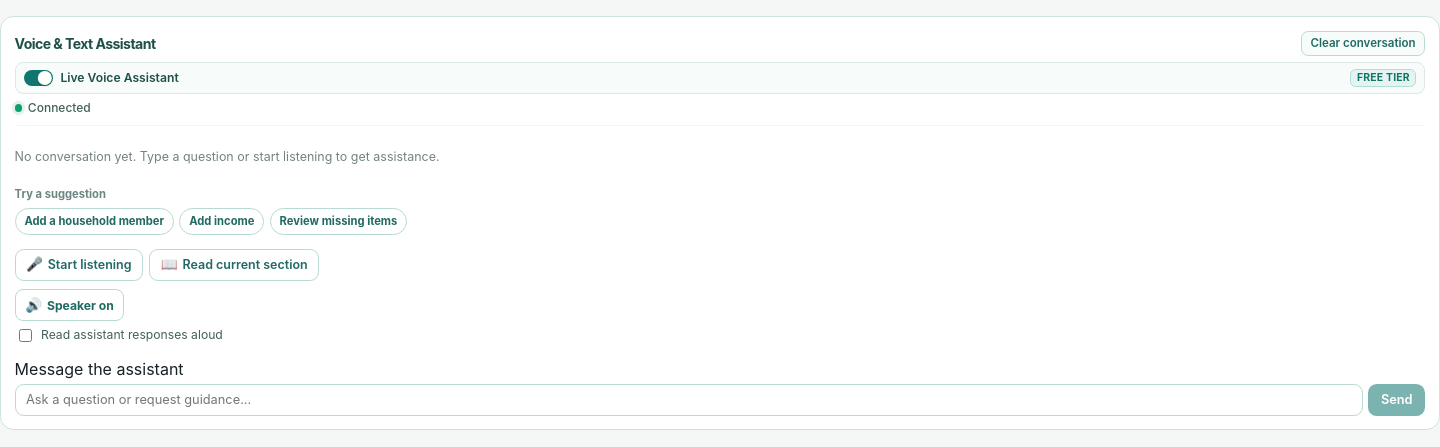
Test case: Phase 4 unified assistant panel › sends typed text through the same controller and records it in the timeline
Type "What is my progress?" into the field labelled "Message the assistant" at (689,400), box [15,384,1362,416]
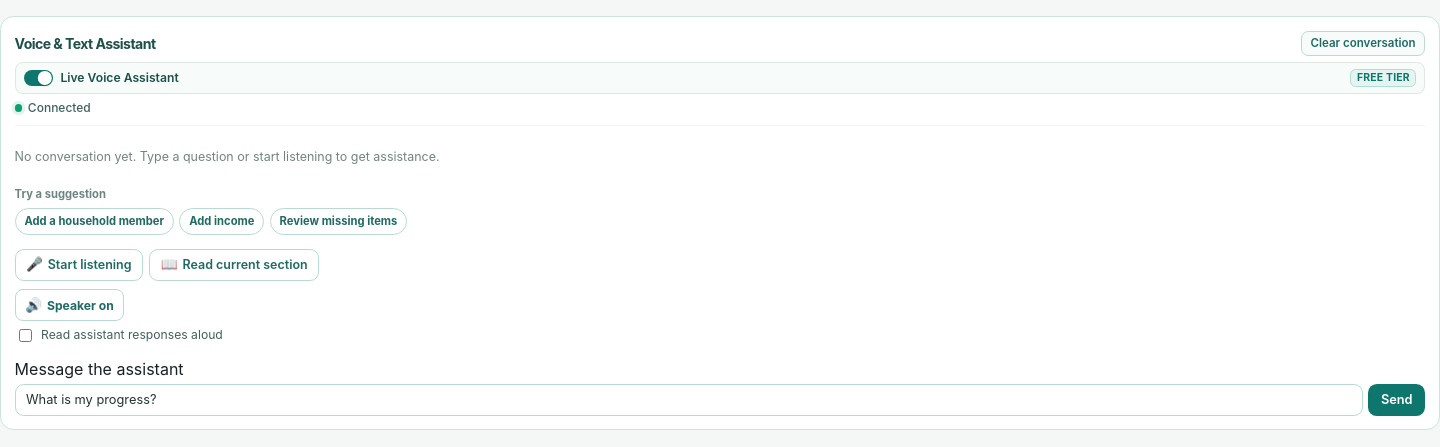
Click the button "Send" at (1397,400), box [1368,384,1425,416]
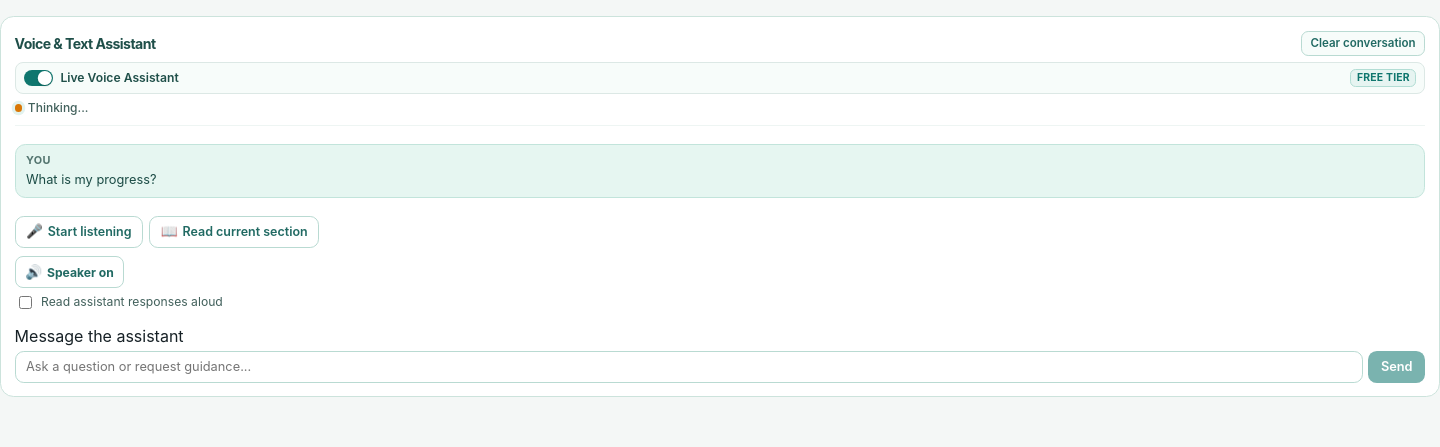
expect the text "What is my progress?" is shown: met, box [26,172,156,187]
